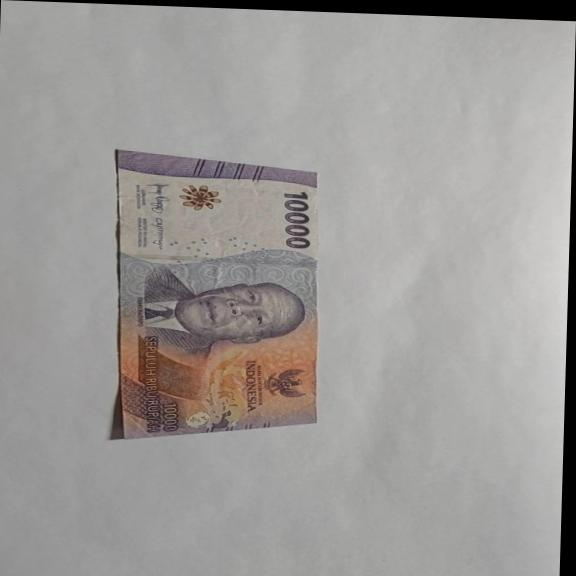Kertas: (106, 149, 326, 448), (280, 189, 313, 250)
